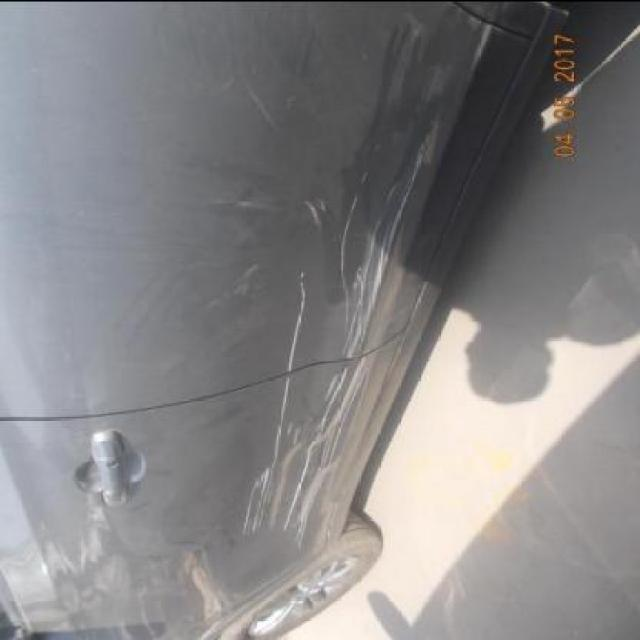damage: (281, 107, 437, 550), (242, 269, 312, 541)
